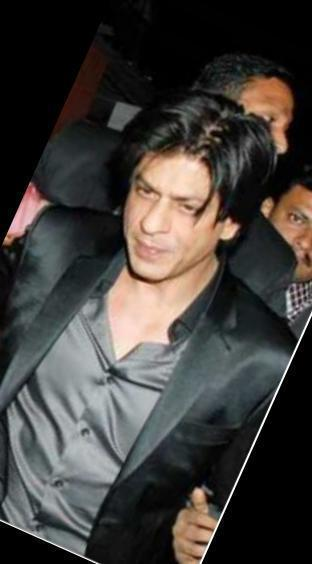Drunk: (123, 162, 211, 277)
